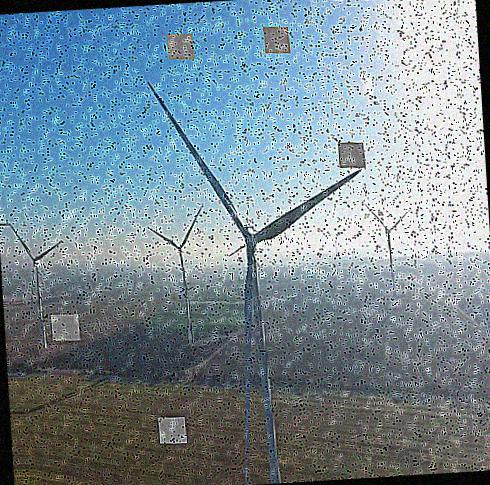wind turbine: (149, 78, 364, 482), (146, 205, 203, 344), (10, 220, 63, 348), (363, 201, 409, 281)
